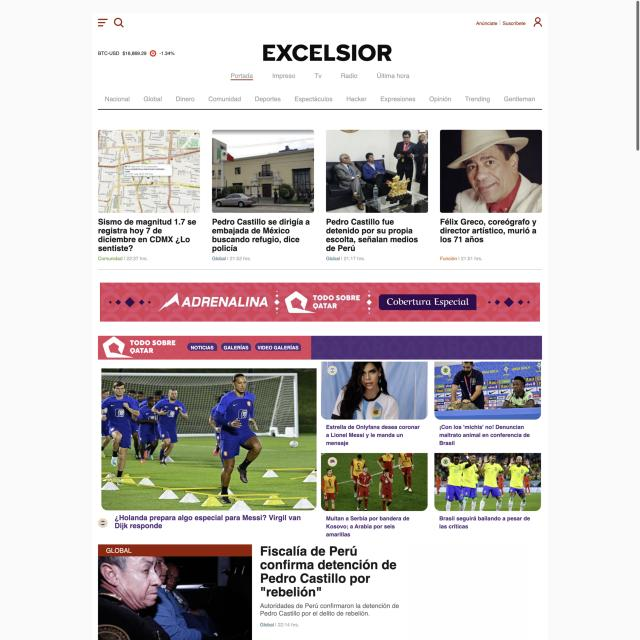CheckBox: (474, 20, 498, 27), (502, 21, 526, 26)
ImageView: (100, 282, 540, 322)
Input field: (211, 218, 311, 254), (97, 217, 199, 252), (326, 216, 420, 253), (440, 218, 538, 244)
RadioButton: (98, 545, 252, 556), (327, 365, 337, 375), (328, 457, 338, 467), (440, 457, 450, 467), (98, 518, 108, 528), (441, 366, 450, 375)
bag: (92, 11, 547, 112)
carousel: (97, 16, 109, 29), (113, 17, 125, 30), (532, 16, 544, 28)
copy: (101, 368, 317, 511), (97, 130, 200, 213), (212, 130, 314, 213), (326, 130, 428, 213), (440, 130, 542, 213), (435, 452, 541, 512), (321, 362, 428, 421), (320, 453, 428, 511), (435, 361, 541, 420)
date picker: (259, 40, 394, 66)
decoration: (102, 95, 537, 104), (229, 71, 412, 82), (96, 15, 110, 30)
